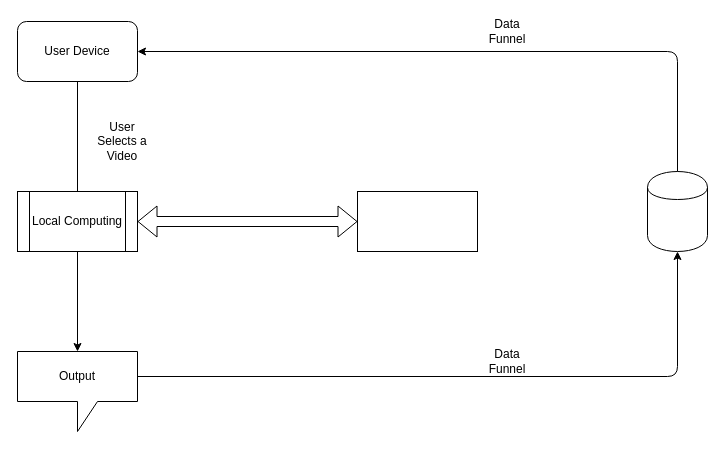
Image size: 725x449. Some labels were removed from this diagram. Each missing label, with the centre of its shape:
"Gallery" goes at (677,211).
"Machine Learning Model" goes at (417,221).
